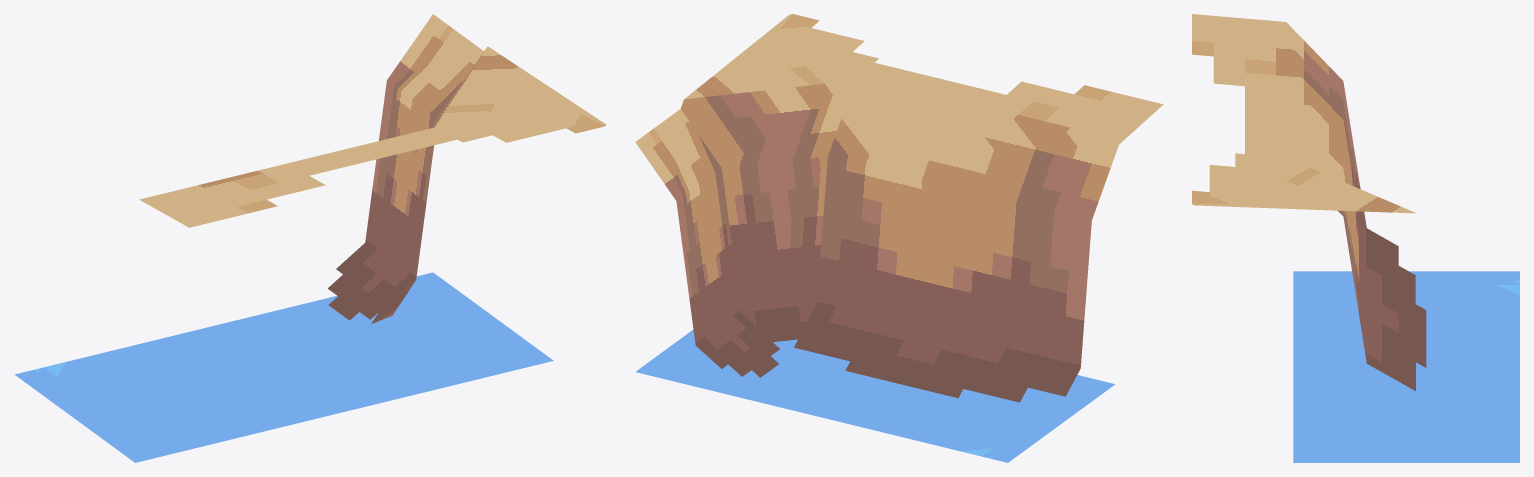
The picture shows the model from 3 angles, left to right: view 1: azimuth 30°, elevation 25°; view 2: azimuth 150°, elevation 25°; view 3: azimuth 270°, elevation 25°; orthographic projection. The views are drawn at different scales.
Size of the model in its own units: 1 by 0.627 by 0.7236.
2 materials, 2 textured.
